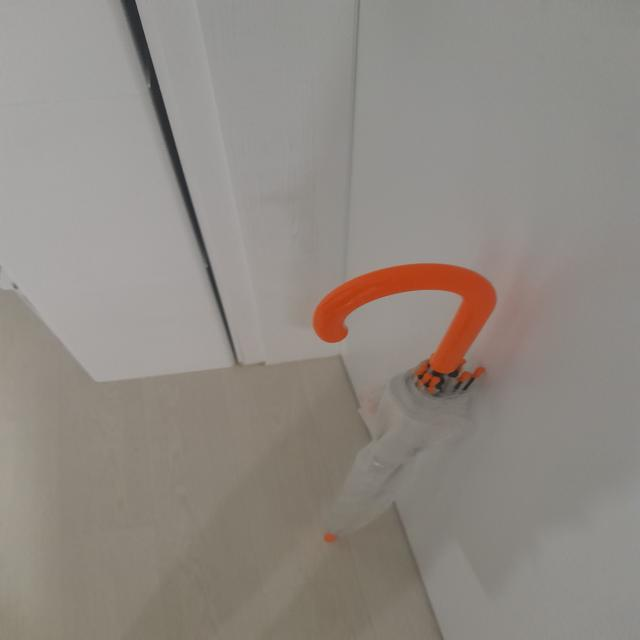umbrella: (313, 263, 499, 558)
